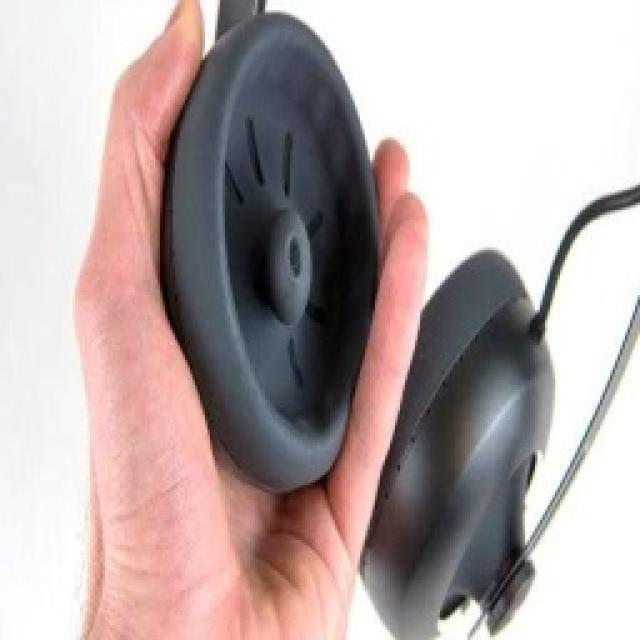headphones: (158, 0, 638, 638)
